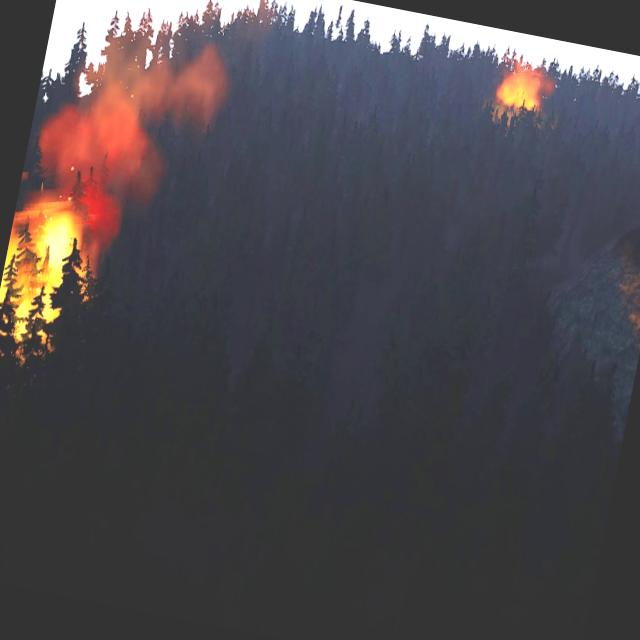fire: (0, 192, 101, 356), (492, 58, 558, 126)
smoke: (18, 9, 232, 260)
